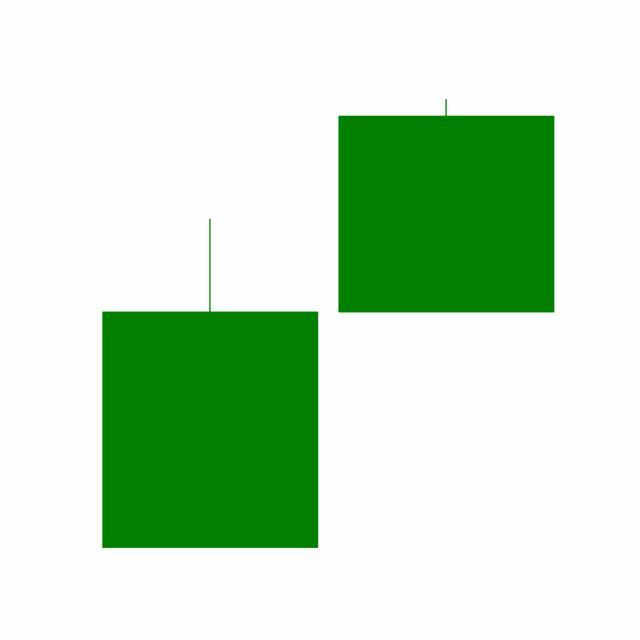Marubozu: (328, 98, 566, 315)
